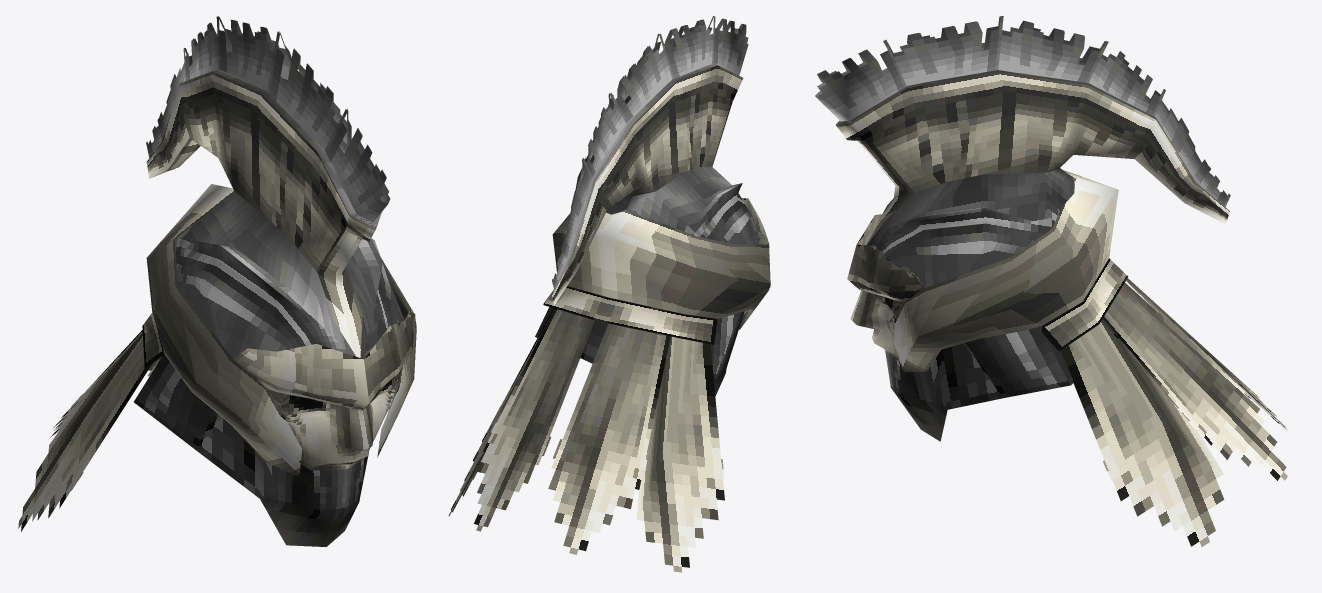
Rendered from f_hair284.glb.
The picture shows the model from 3 angles, left to right: view 1: azimuth 30°, elevation 25°; view 2: azimuth 150°, elevation 25°; view 3: azimuth 270°, elevation 25°; orthographic projection. The views are drawn at different scales.
Bounding box in the file's own units: 32.32 × 49.66 × 46.62.
1 material, 1 textured.
